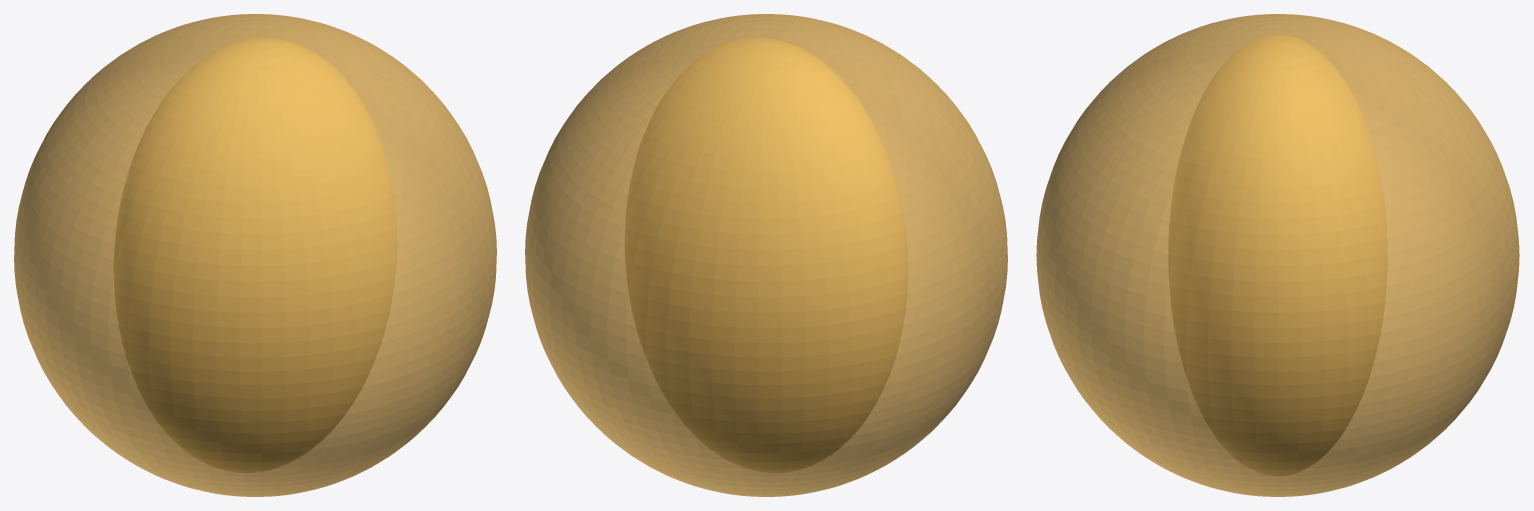
The model's file is mitochondria-placeholder.web.glb.
3 views of the same model, side by side, from view 1: azimuth 30°, elevation 25°; view 2: azimuth 150°, elevation 25°; view 3: azimuth 270°, elevation 25° (orthographic).
Parts seen in each view (by area): view 1: Inner_Membrane, Outer_Membrane; view 2: Inner_Membrane, Outer_Membrane; view 3: Inner_Membrane, Outer_Membrane.
Boxes of the visible parts, box(x1,y1,x2,y2) form: Inner_Membrane: box(14, 14, 496, 496); Outer_Membrane: box(114, 38, 396, 472); Inner_Membrane: box(525, 14, 1007, 496); Outer_Membrane: box(625, 38, 907, 472); Inner_Membrane: box(1036, 14, 1519, 496); Outer_Membrane: box(1168, 35, 1387, 475).
Size of the model in its own units: 1.76 by 1.76 by 1.76.
